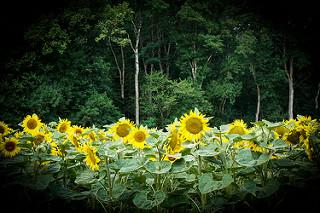sunflower: (176, 112, 212, 141), (112, 118, 137, 140), (21, 114, 43, 135), (128, 127, 150, 147), (223, 119, 250, 135), (1, 137, 20, 157), (85, 150, 101, 169), (56, 117, 71, 136)
